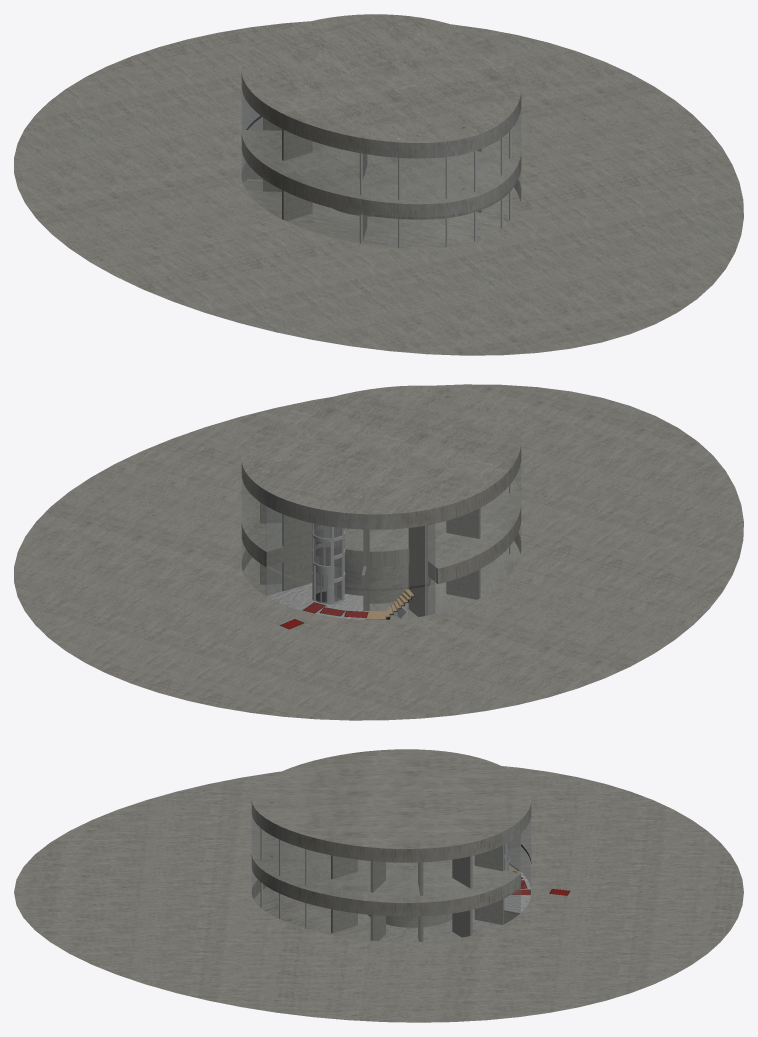
File: OLA-Raimonds-K-04-3.glb
The picture shows the model from 3 angles, top to bottom: view 1: azimuth 30°, elevation 25°; view 2: azimuth 150°, elevation 25°; view 3: azimuth 270°, elevation 25°; orthographic projection. The views are drawn at different scales.
Parts seen in each view (by area): view 1: Cylinder.020, 1stFloor-ceiling.002, glassExterior, 1stFloor-ceiling.003, -1floor-ceiling.001, Cube.007, Cylinder.016, glasswall.002, Cylinder.017; view 2: Cylinder.020, 1stFloor-ceiling.002, glassExterior, 1stFloor-ceiling.003, -1floor-ceiling.001, Cube.026, Cylinder.007, Cube.008, Cube.007, entrance-floor, glasswall.002, elevator.010 (+6 smaller); view 3: Cylinder.020, 1stFloor-ceiling.002, glassExterior, 1stFloor-ceiling.003, -1floor-ceiling.001, Cube.026, Cube.003, Cube.005, Cube.004, Cylinder.007, entrance-floor, Cylinder.017 (+2 smaller).
Part boxes in pixels (box(x1,y1,x2,y2)): Cylinder.020: box(14, 21, 743, 355); 1stFloor-ceiling.002: box(241, 14, 521, 158); glassExterior: box(242, 92, 520, 248); 1stFloor-ceiling.003: box(241, 126, 521, 219); -1floor-ceiling.001: box(243, 180, 520, 248); Cube.007: box(282, 90, 312, 221); Cylinder.016: box(360, 129, 511, 248); glasswall.002: box(242, 92, 262, 190); Cylinder.017: box(240, 161, 522, 249); Cylinder.020: box(14, 384, 743, 720); 1stFloor-ceiling.002: box(241, 385, 521, 529); glassExterior: box(242, 464, 520, 619); 1stFloor-ceiling.003: box(241, 480, 521, 583); -1floor-ceiling.001: box(243, 541, 520, 619); Cube.026: box(264, 514, 312, 591); Cylinder.007: box(320, 558, 431, 603); Cube.008: box(408, 486, 427, 616); Cube.007: box(446, 470, 480, 599); entrance-floor: box(266, 583, 364, 619); glasswall.002: box(426, 524, 435, 615); elevator.010: box(314, 524, 344, 565); Cylinder.020: box(14, 766, 743, 1022); 1stFloor-ceiling.002: box(251, 749, 531, 862); glassExterior: box(252, 804, 531, 941); 1stFloor-ceiling.003: box(251, 833, 519, 916); -1floor-ceiling.001: box(254, 887, 501, 942); Cube.026: box(474, 845, 520, 924); Cube.003: box(452, 856, 472, 937); Cube.005: box(331, 816, 357, 933); Cube.004: box(370, 826, 385, 941); Cylinder.007: box(368, 913, 452, 927); entrance-floor: box(503, 871, 531, 923); Cylinder.017: box(250, 863, 532, 942).
Bounding box in the file's own units: 44.39 × 13.61 × 52.54.
Materials: 23 (9 with a texture image).
